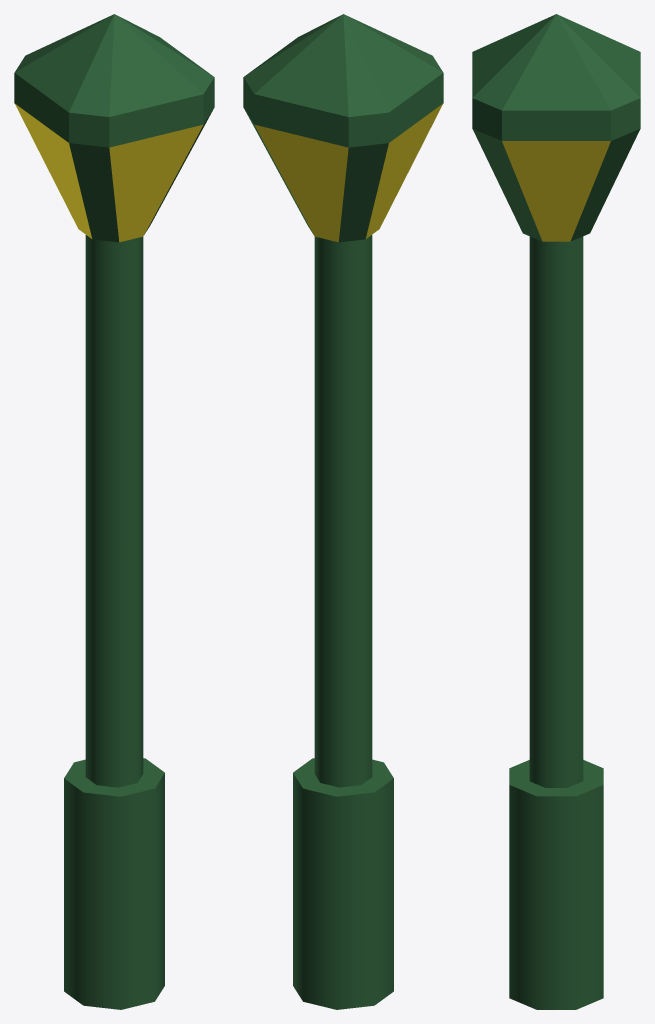
3 renders of one model, left to right at view 1: azimuth 30°, elevation 25°; view 2: azimuth 150°, elevation 25°; view 3: azimuth 270°, elevation 25°, orthographic.
Parts seen in each view (by area): view 1: cylinder (×2), sides, top; view 2: cylinder (×2), sides, top; view 3: cylinder (×2), sides, top.
Boxes of the visible parts, left/top/right/bottom form: cylinder (×2): left=14, top=14, right=214, bottom=787; sides: left=64, top=773, right=164, bottom=1009; top: left=64, top=758, right=164, bottom=796; cylinder (×2): left=243, top=14, right=443, bottom=787; sides: left=293, top=773, right=393, bottom=1009; top: left=293, top=758, right=393, bottom=796; cylinder (×2): left=472, top=14, right=640, bottom=787; sides: left=509, top=785, right=603, bottom=1009; top: left=509, top=760, right=603, bottom=796.
Bounding box in the file's own units: 0.3125 × 2 × 0.3125.
Materials: 1 (1 with a texture image).
